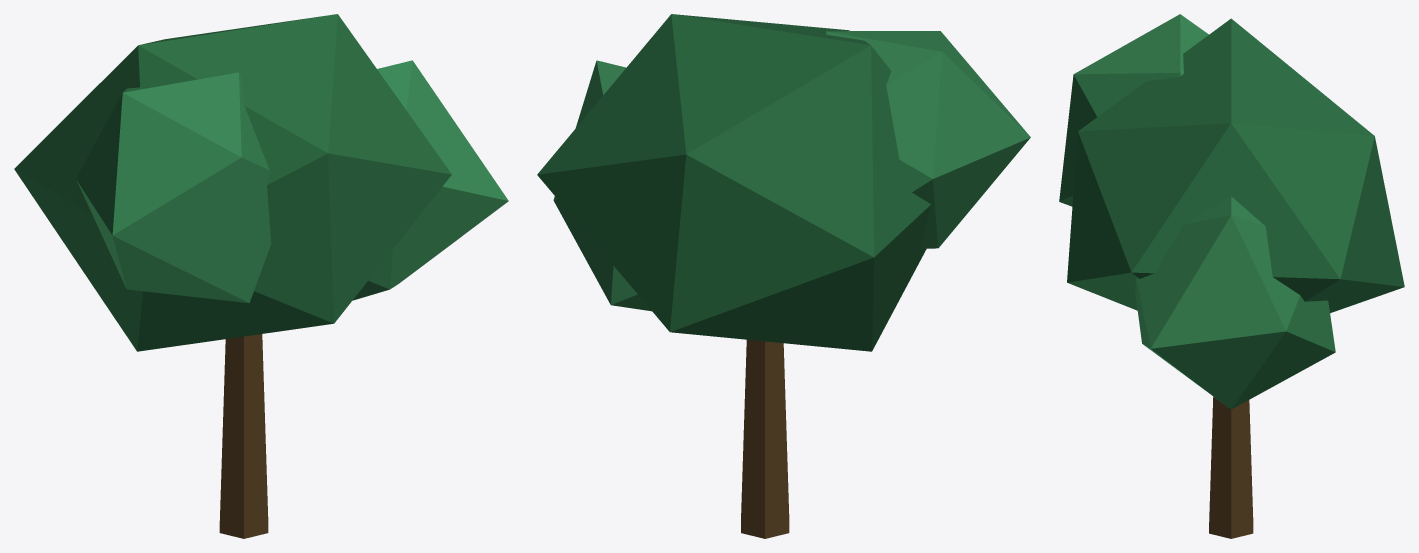
Rendered from broadleaf_tree.glb.
3 renders of one model, left to right at view 1: azimuth 30°, elevation 25°; view 2: azimuth 150°, elevation 25°; view 3: azimuth 270°, elevation 25°, orthographic. The views are drawn at different scales.
Visible parts, largest first — view 1: model; view 2: model; view 3: model.
Boxes of the visible parts, x1,y1,x2,y2 form: model: (14,14,508,538); model: (537,14,1030,538); model: (1059,14,1404,538).
Bounding box in the file's own units: 5.19 × 6 × 4.06.
